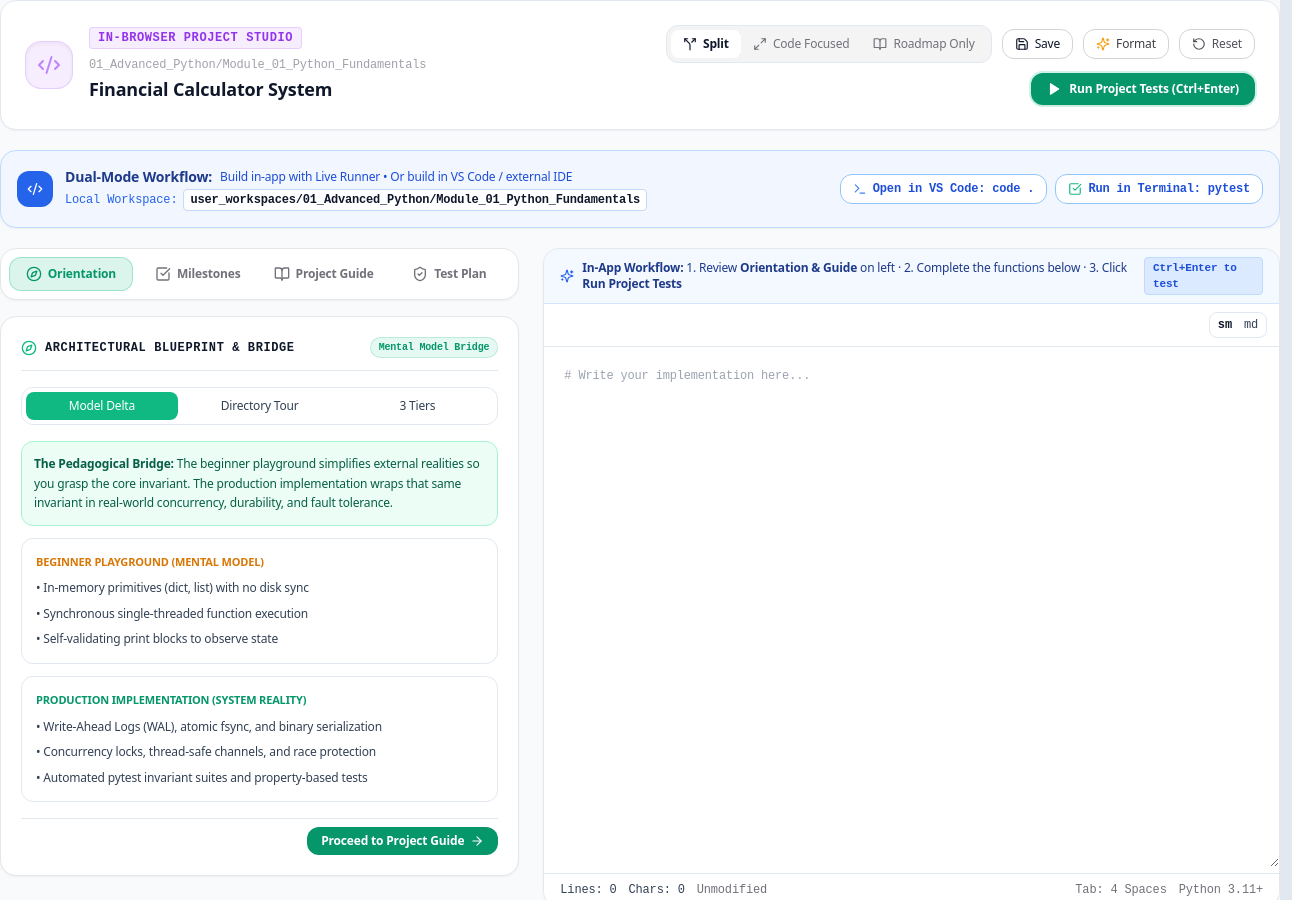
Test: ProjectStudio Component › renders guided roadmap tabs and extracted directives
Expected: the heading "Financial Calculator System" is shown, [89, 77, 332, 101]
Expected: the text "Orientation" is shown, [48, 266, 116, 282]
Verify extracted function directive under Milestones tab
Step 1. Click the button "Milestones" → (198, 274), box [137, 258, 259, 290]
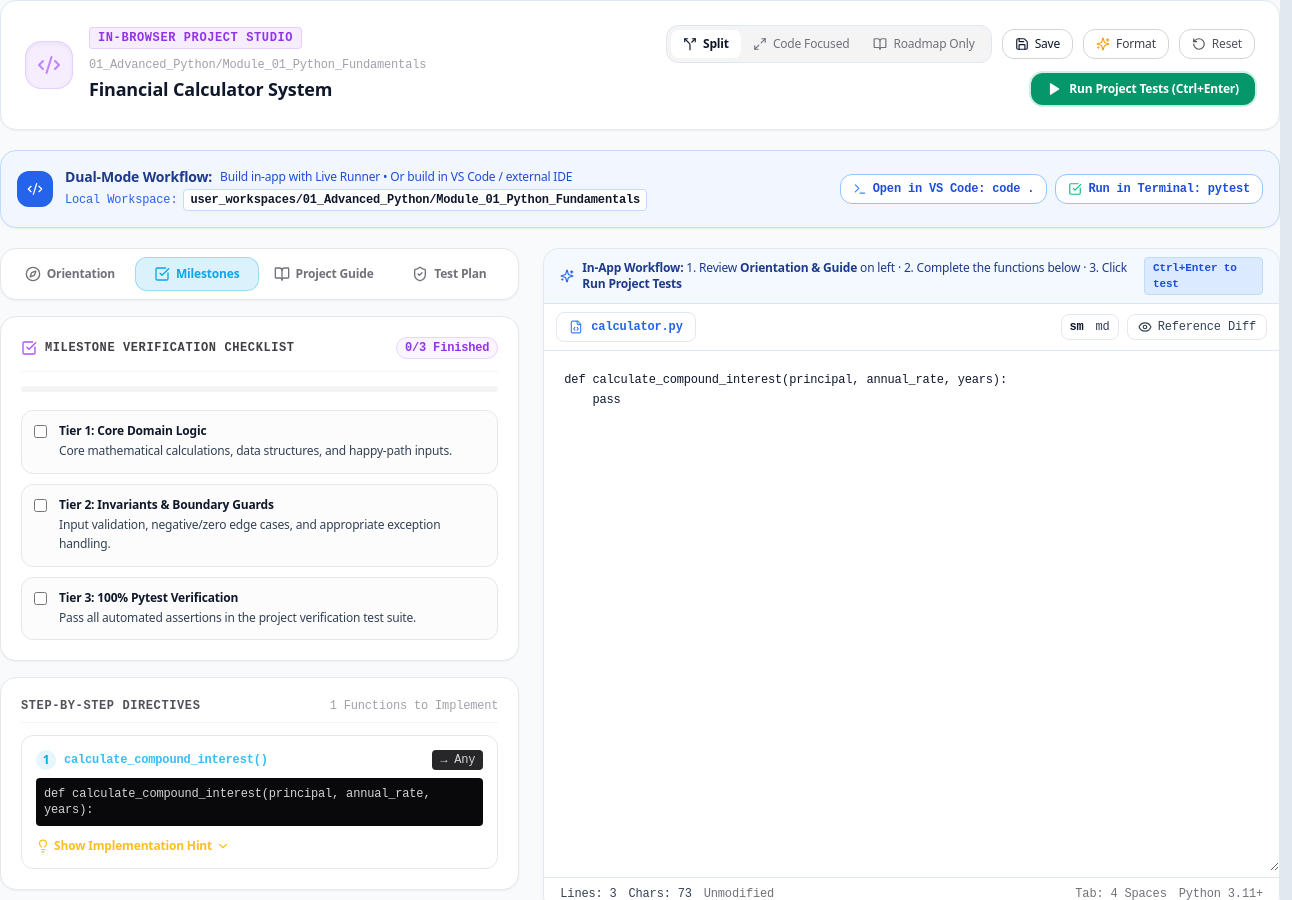
Expected: the text "Step-by-Step Directives" is shown, [21, 698, 200, 714]
Expected: the text "calculate_compound_interest()" is shown, [64, 752, 268, 768]
